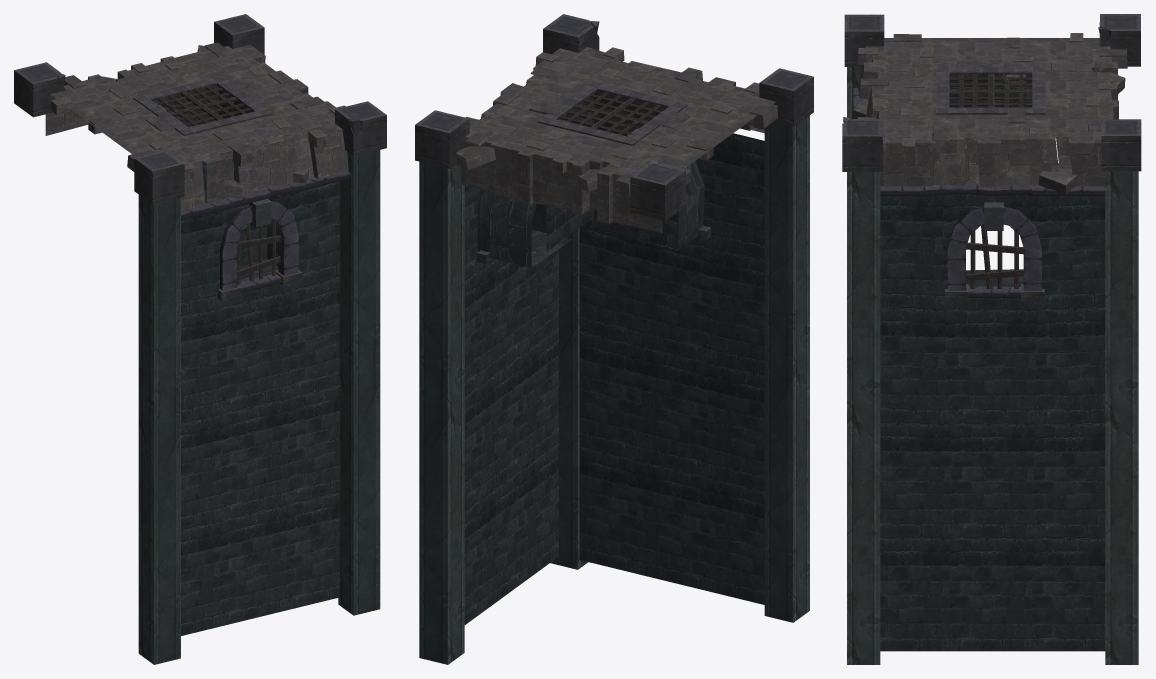
The model's file is terrain_section02_guanka10D_01.FBX.
3 renders of one model, left to right at view 1: azimuth 30°, elevation 25°; view 2: azimuth 150°, elevation 25°; view 3: azimuth 270°, elevation 25°, orthographic. The views are drawn at different scales.
Parts seen in each view (by area): view 1: terrain_section02_guanka10D_01; view 2: terrain_section02_guanka10D_01; view 3: terrain_section02_guanka10D_01.
Boxes of the visible parts, box(x1,y1,x2,y2) form: terrain_section02_guanka10D_01: box(14, 14, 386, 664); terrain_section02_guanka10D_01: box(415, 14, 813, 664); terrain_section02_guanka10D_01: box(842, 14, 1141, 664).
Size of the model in its own units: 20.12 by 20.78 by 40.87.
